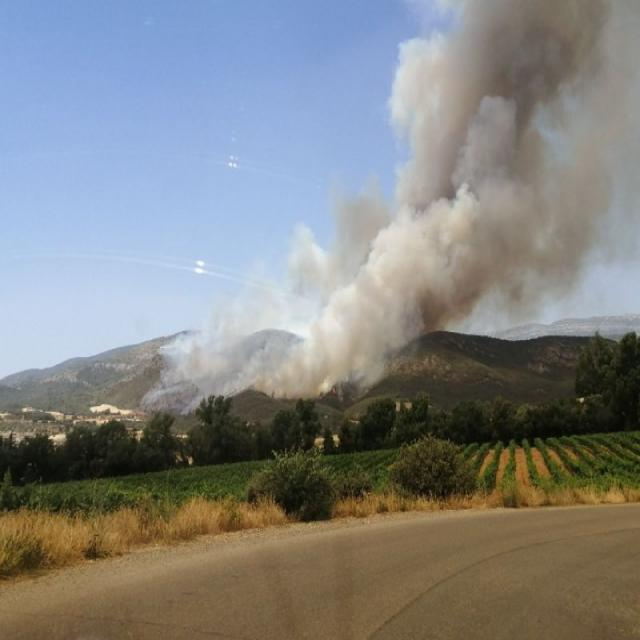fire: (331, 382, 340, 395)
smoke: (256, 0, 640, 397)
